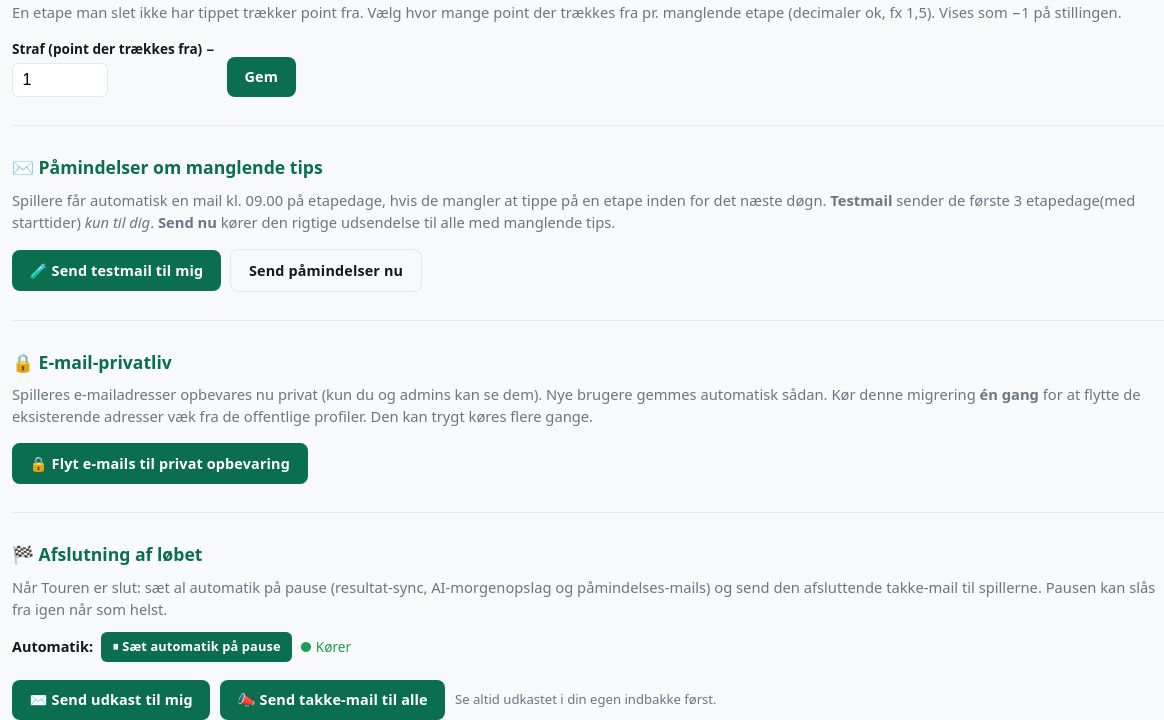
Test: SettingsTab — 🏁 Afslutning af løbet › viser fejlbesked når kaldet fejler
(page scrolled)
Click the button with test id "thankyou-draft" at (111, 700), box [12,680,210,719]
(page scrolled)
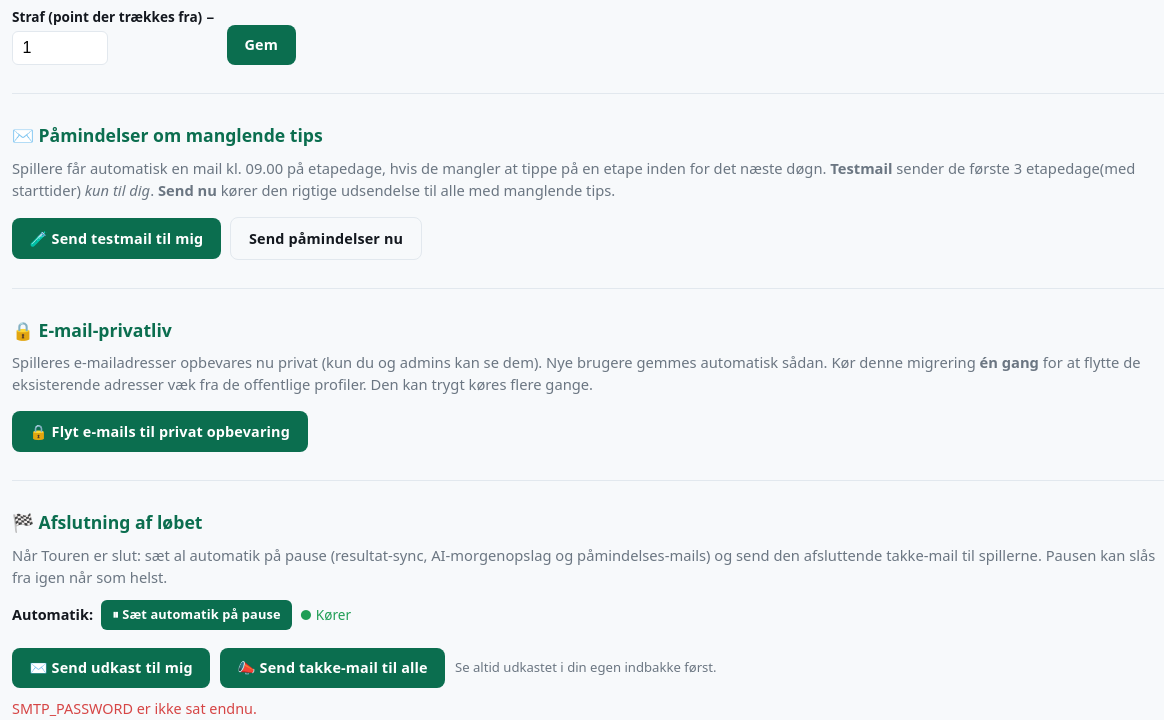
Expected: the text "SMTP_PASSWORD er ikke sat endnu." is shown, [12,699,257,718]
